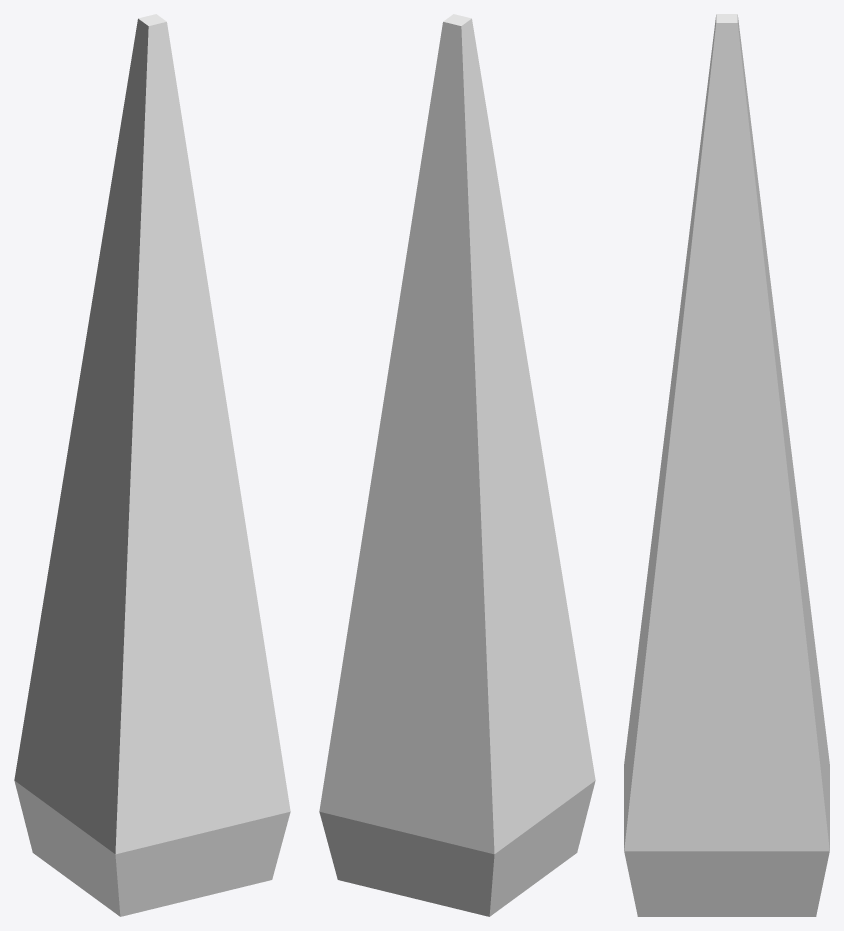
File: Grass01.fbx
The picture shows the model from 3 angles, left to right: view 1: azimuth 30°, elevation 25°; view 2: azimuth 150°, elevation 25°; view 3: azimuth 270°, elevation 25°; orthographic projection.
Visible parts, largest first — view 1: Tree04; view 2: Tree04; view 3: Tree04.
Boxes of the visible parts, <box> form: Tree04: <box>14,14,290,916</box>; Tree04: <box>319,14,595,916</box>; Tree04: <box>624,14,829,916</box>.
Bounding box in the file's own units: 29.3 × 135 × 29.3.
